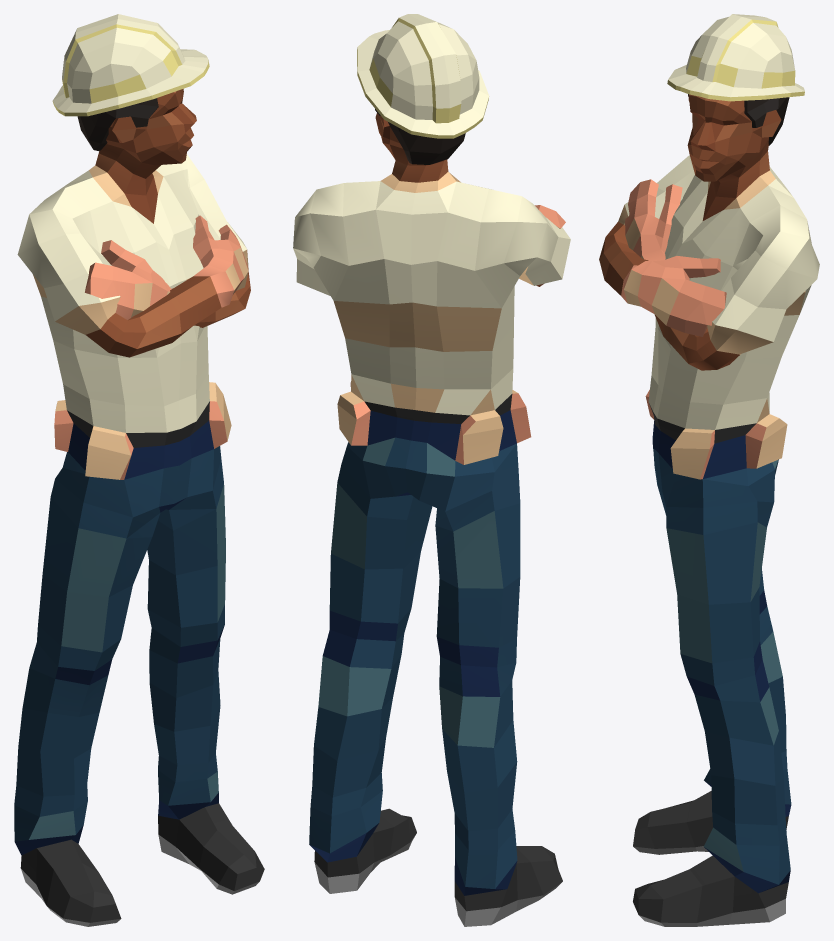
The model's file is construction-worker.glb.
The picture shows the model from 3 angles, left to right: view 1: azimuth 30°, elevation 25°; view 2: azimuth 150°, elevation 25°; view 3: azimuth 270°, elevation 25°; orthographic projection.
Visible parts, largest first — view 1: construction-worker; view 2: construction-worker; view 3: construction-worker.
Boxes of the visible parts, left/top/right/bottom form: construction-worker: left=14, top=14, right=264, bottom=926; construction-worker: left=293, top=14, right=570, bottom=926; construction-worker: left=599, top=14, right=819, bottom=926.
Bounding box in the file's own units: 0.5049 × 1.81 × 0.4212.
Materials: 1 (1 with a texture image).
